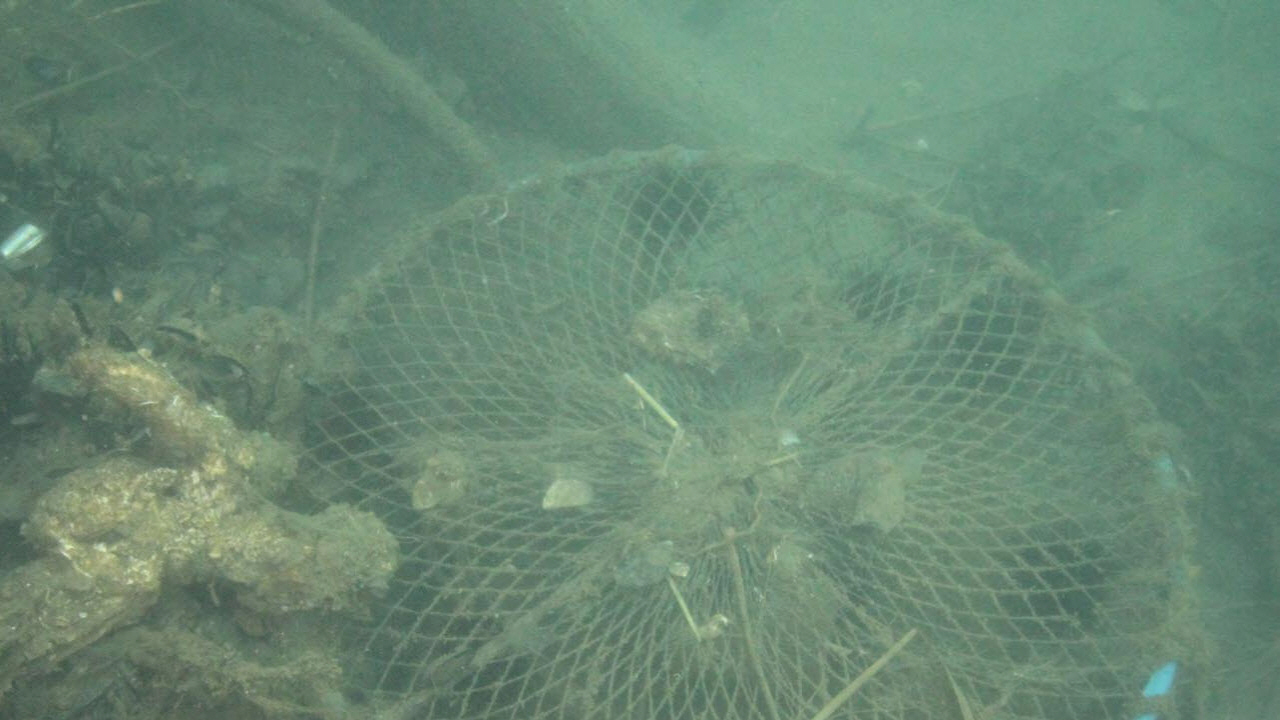circular fish trap: (265, 147, 1197, 720)
